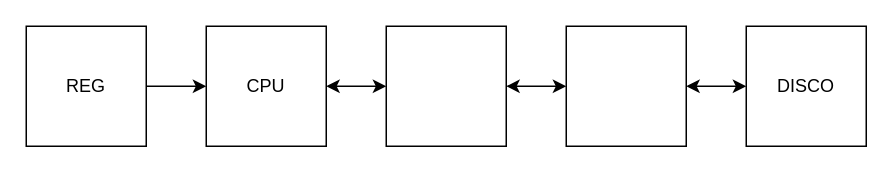
Some shapes in this 893 by 173 pixel diagram are drawn without their labels. Here are the shapes that lost their labels. From the top down, the centre of each, then its label:
At point (445, 85): "CACHE".
At point (625, 85): "RAM".
